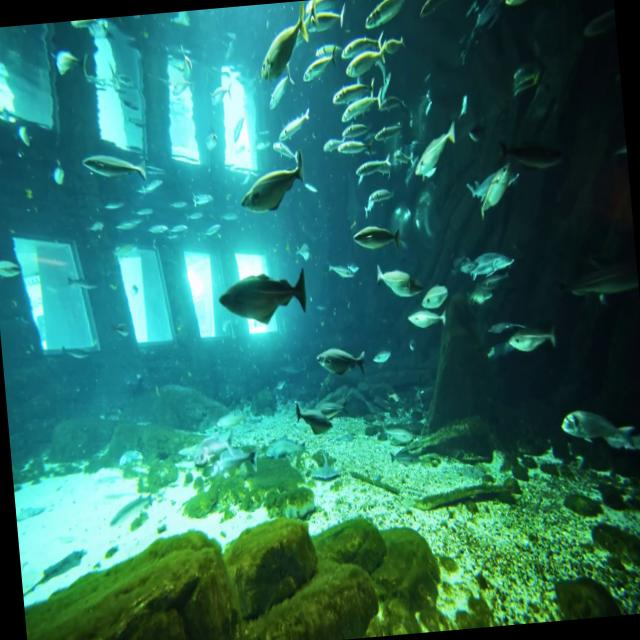fish: (231, 136, 318, 228), (214, 260, 313, 338), (247, 5, 315, 94), (74, 134, 152, 197), (548, 396, 630, 454), (488, 128, 570, 182), (302, 321, 370, 386), (366, 251, 421, 310), (282, 388, 342, 442), (408, 124, 463, 182), (468, 156, 511, 224), (456, 239, 518, 285), (42, 36, 96, 86), (336, 36, 386, 88), (505, 313, 556, 358), (357, 0, 428, 31), (352, 209, 404, 249), (402, 297, 450, 339), (306, 0, 354, 41), (334, 92, 381, 131), (263, 64, 298, 114), (322, 247, 364, 288), (277, 106, 316, 146), (294, 50, 336, 87), (421, 271, 452, 309), (368, 334, 395, 376), (354, 157, 390, 184), (329, 131, 364, 154)
